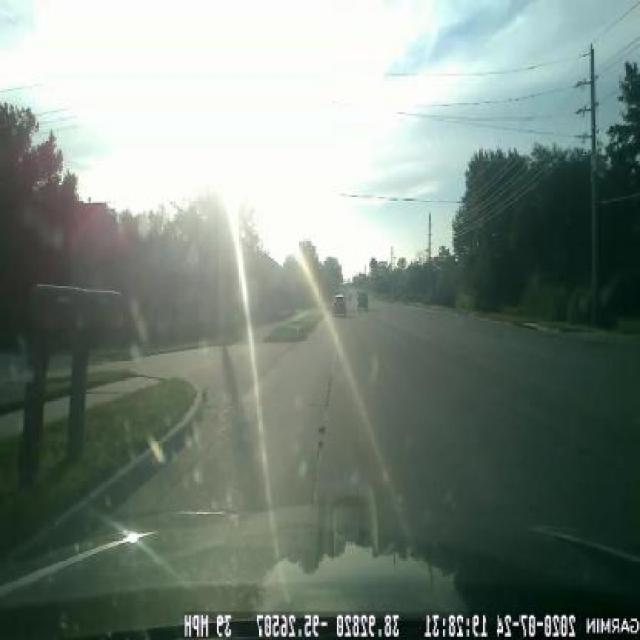pothole: (310, 415, 329, 464)
